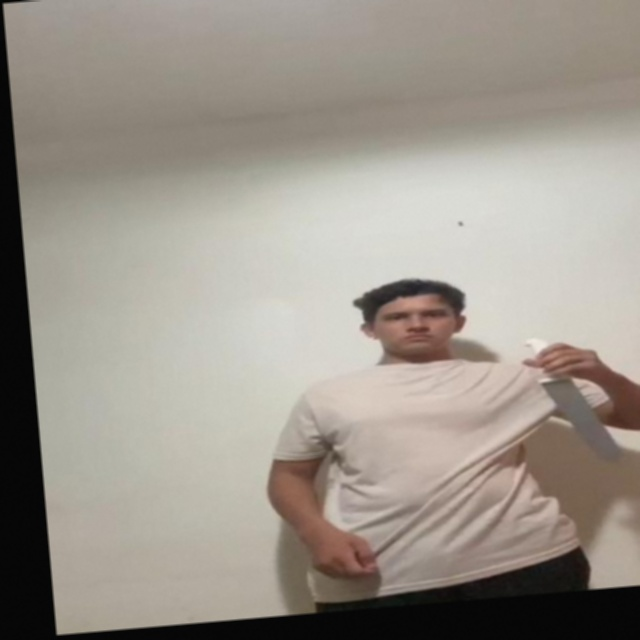Sharp-Object: (543, 374, 613, 460)
